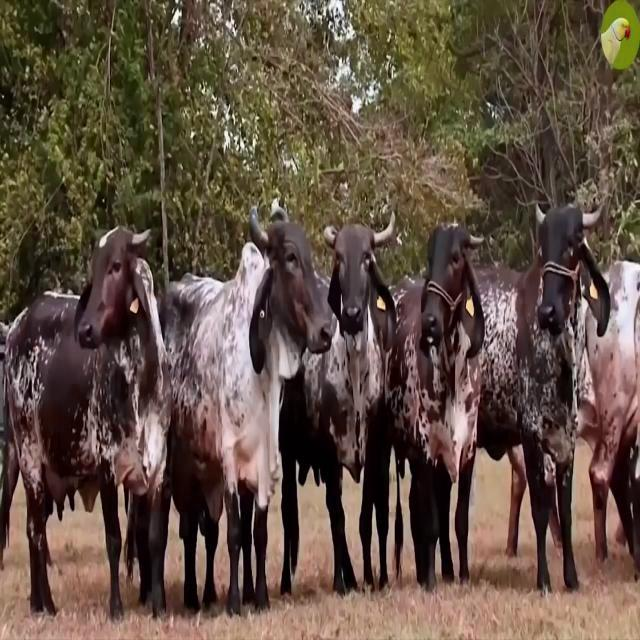cow: (161, 209, 334, 614), (0, 228, 170, 618), (476, 206, 610, 591), (280, 215, 395, 594), (391, 225, 484, 590), (578, 261, 640, 574)
